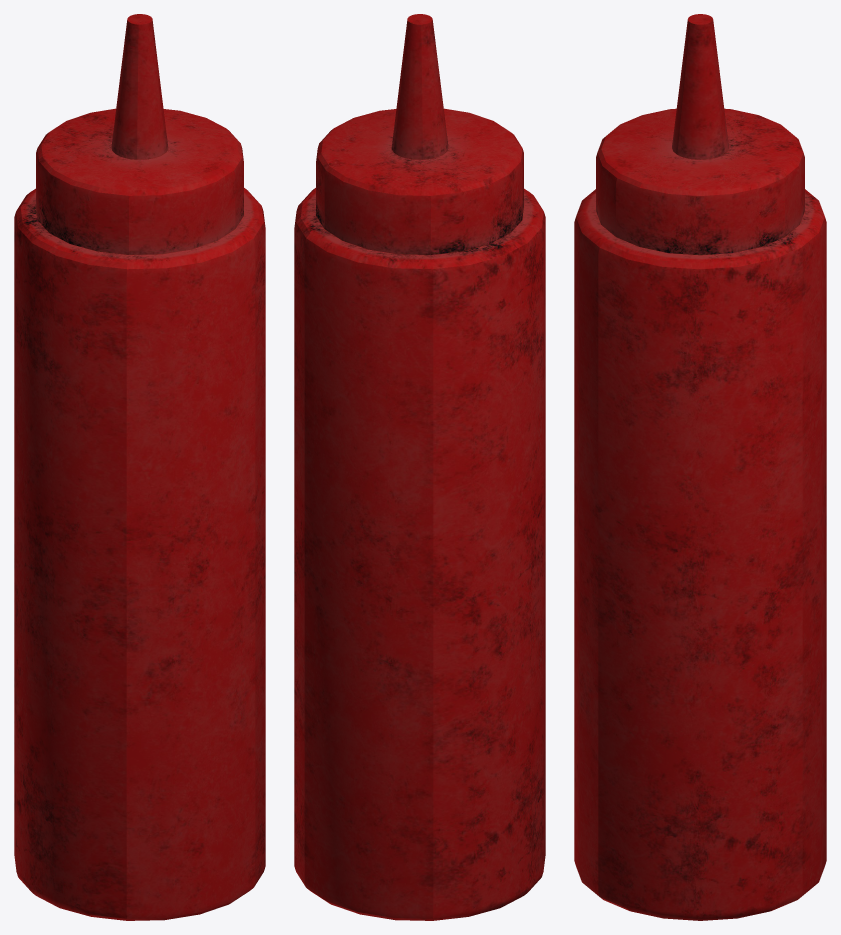
File: ketchup.fbx
3 views of the same model, side by side, from view 1: azimuth 30°, elevation 25°; view 2: azimuth 150°, elevation 25°; view 3: azimuth 270°, elevation 25° (orthographic).
Visible parts, largest first — view 1: Ketchup; view 2: Ketchup; view 3: Ketchup.
Boxes of the visible parts, bbox=[...] form: Ketchup: bbox=[14, 14, 265, 920]; Ketchup: bbox=[294, 14, 545, 920]; Ketchup: bbox=[574, 14, 826, 920].
Bounding box in the file's own units: 8.27 × 30.8 × 8.27.
